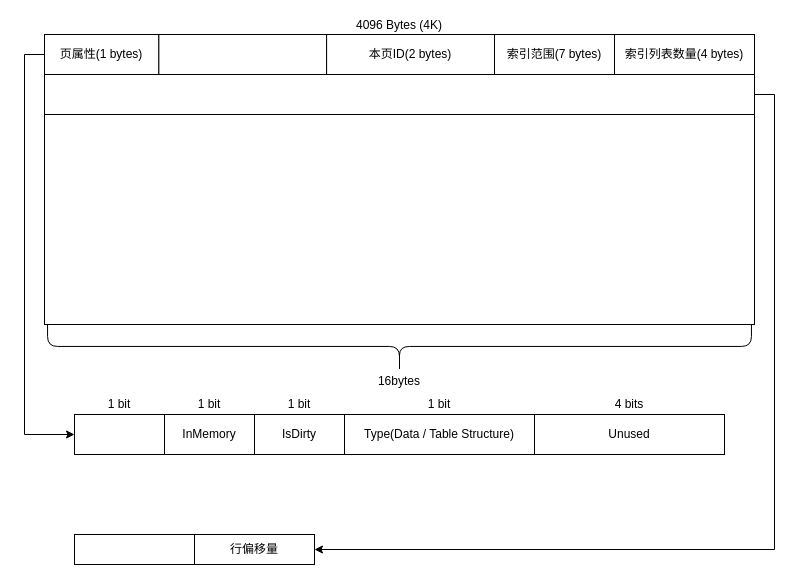
The diagram is 800 pixels wide and 582 high, and some of its shapes have lost their labels. Here are the shapes that lost their labels. From the top down, the centre of each, then its label:
pixel 242 54: 父页ID(2 bytes)
pixel 399 94: 索引列表
pixel 399 219: 数据
pixel 119 434: IsExists
pixel 134 549: 索引值
